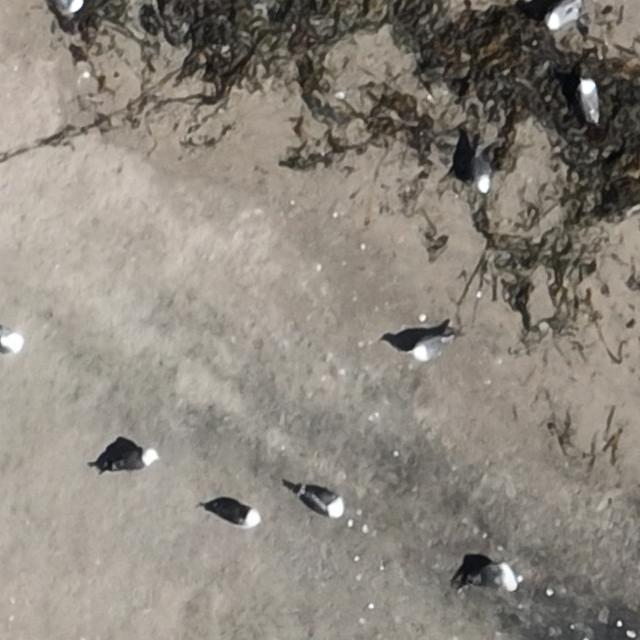umineko: (0, 321, 31, 360), (210, 502, 259, 526), (302, 491, 342, 517), (109, 450, 154, 470), (546, 3, 578, 30), (580, 80, 600, 120), (412, 336, 444, 360), (470, 567, 508, 587), (473, 156, 492, 193), (53, 0, 82, 13)
